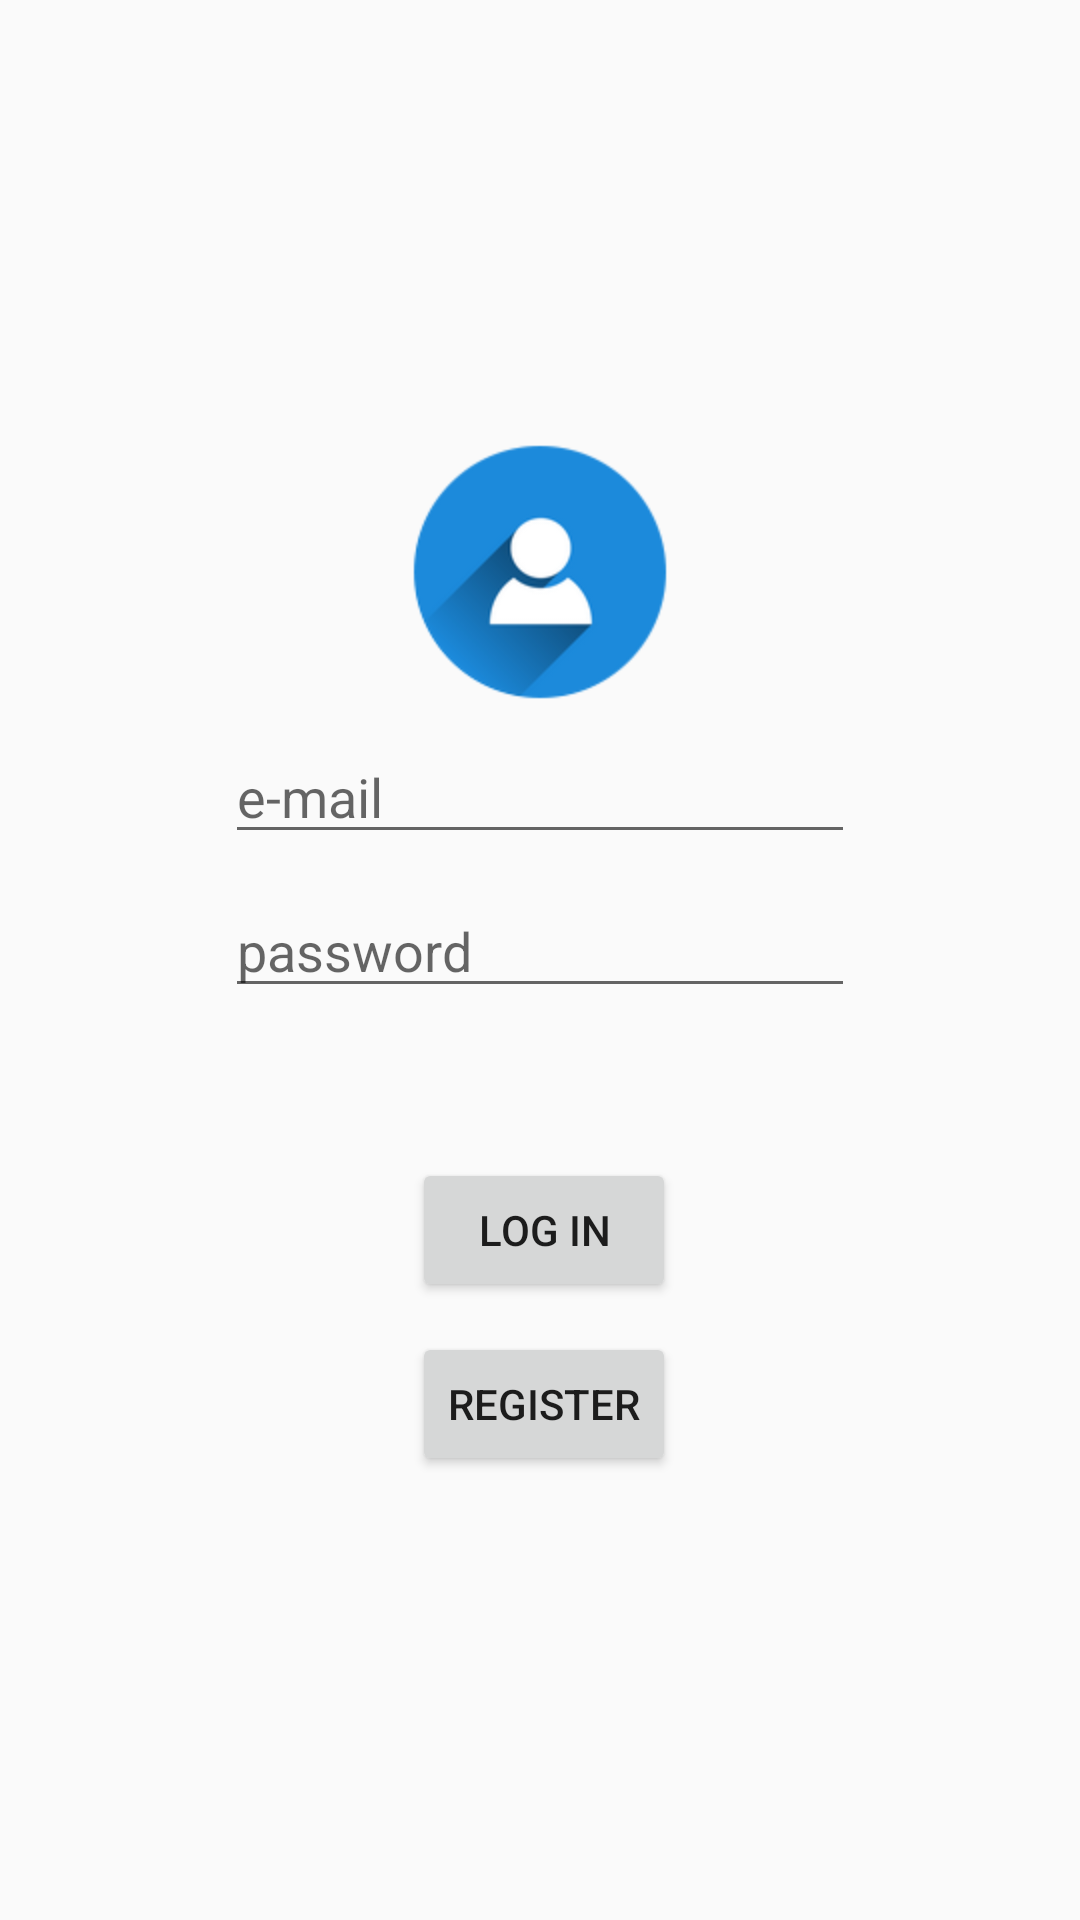

Icon bounding boxes for this 1080×1920 phone screenshot, format (x1, y1, x2, y2):
profile: (413, 445, 667, 699)
